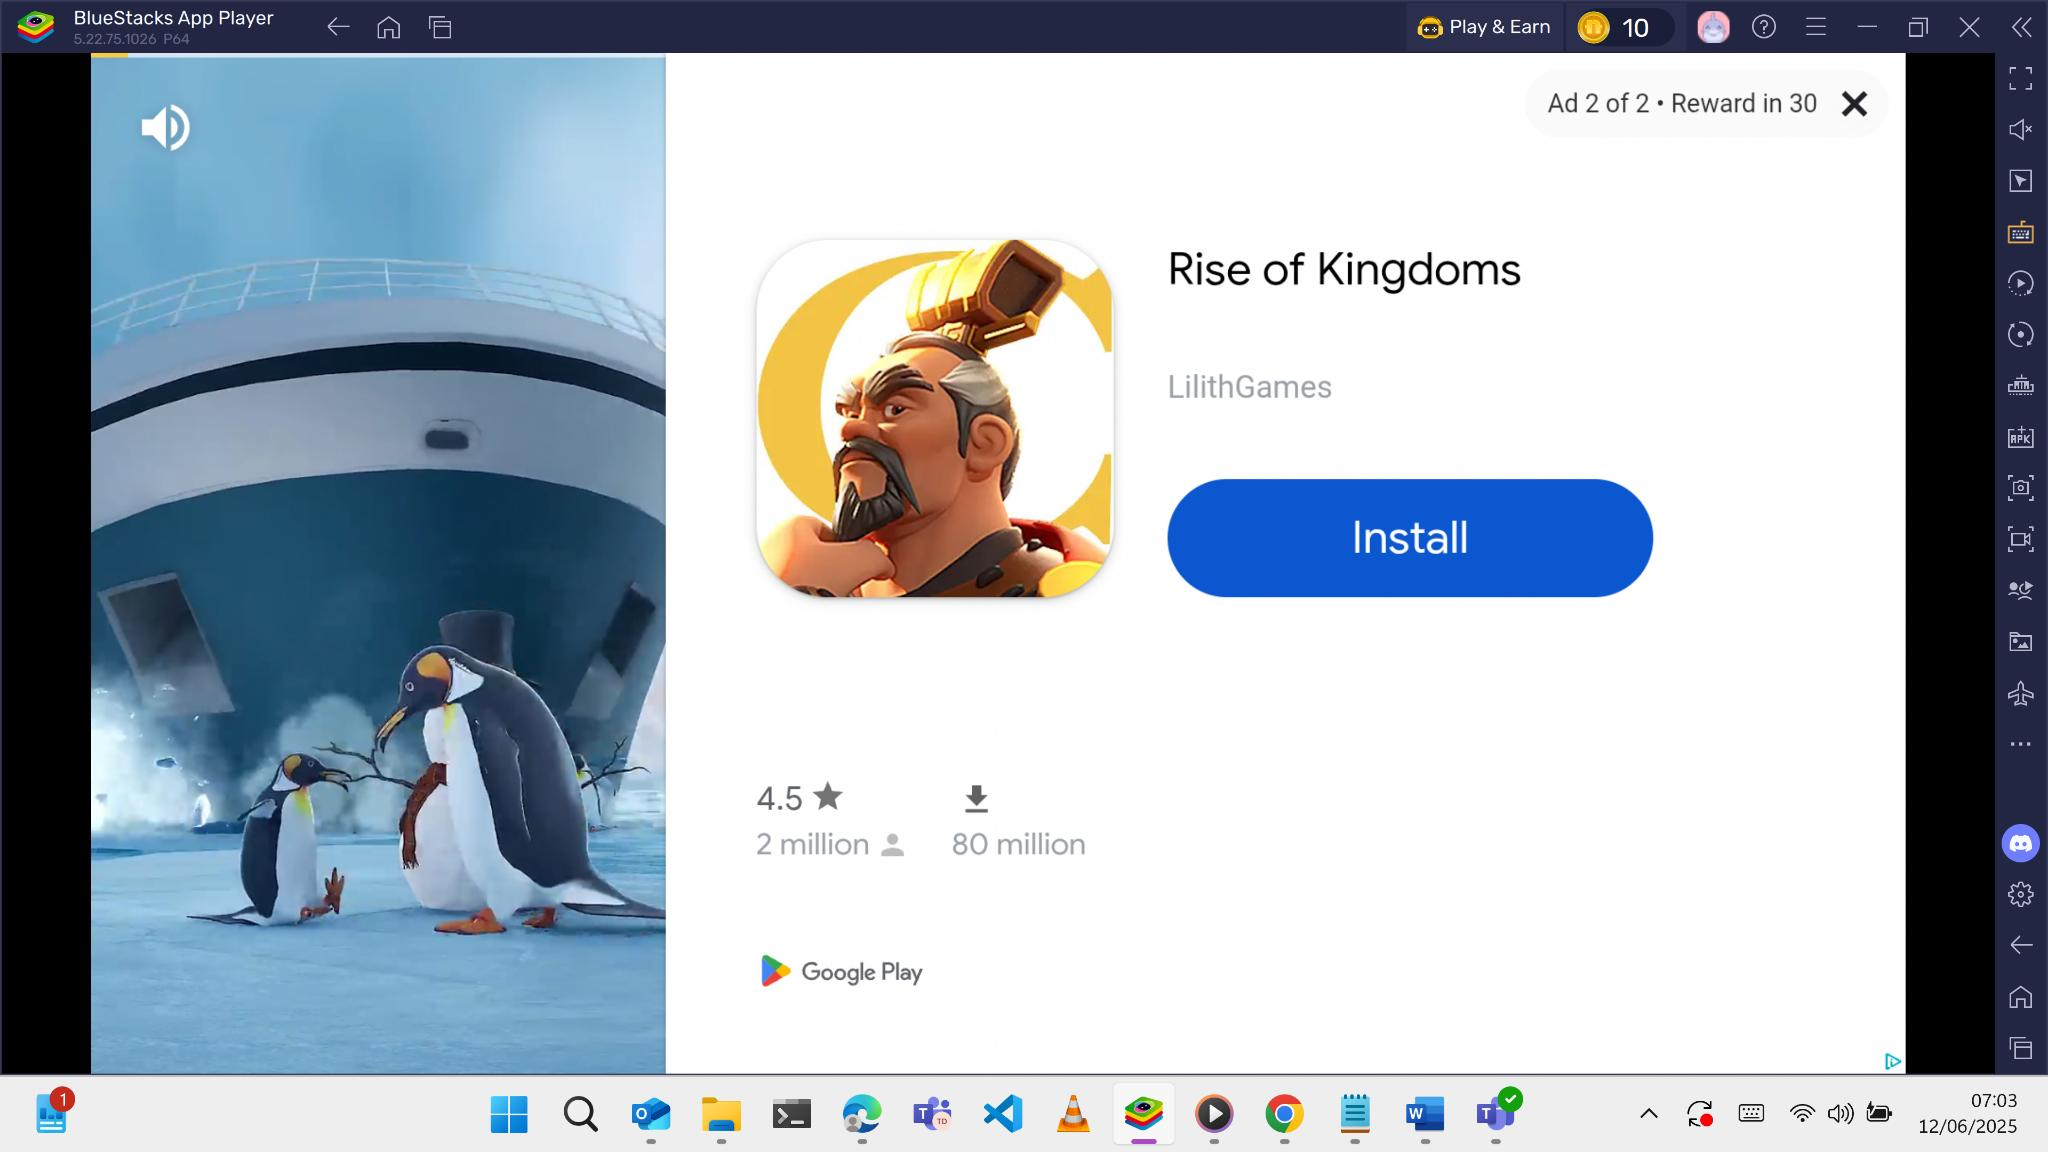close_ad: (1838, 89, 1871, 120)
